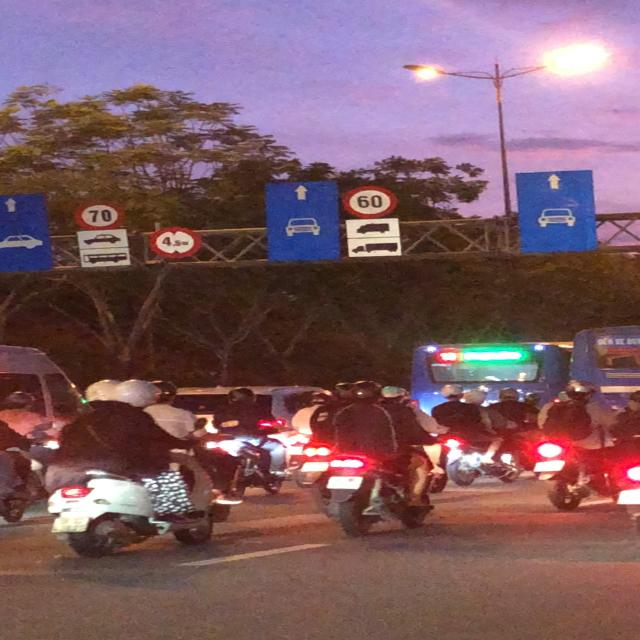Bien bao han che chieu cao: (144, 223, 207, 260)
Bien bao toc do toi da cho phep: (336, 180, 402, 217), (70, 198, 132, 228)
